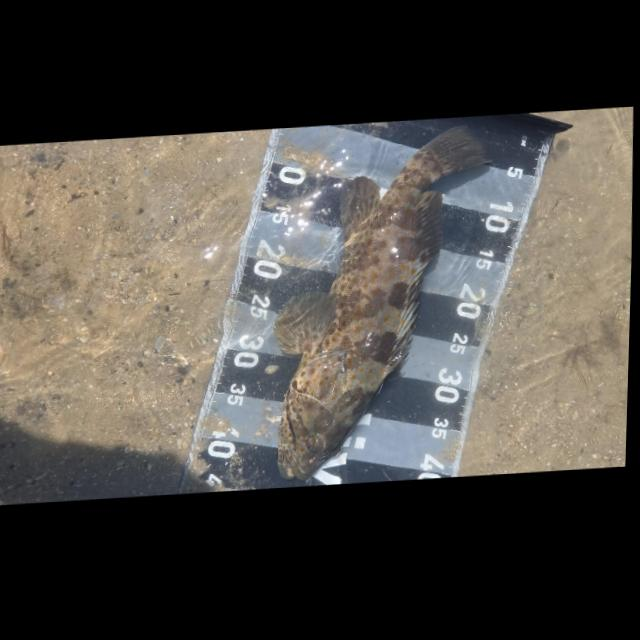Groupers: (264, 125, 499, 483)
